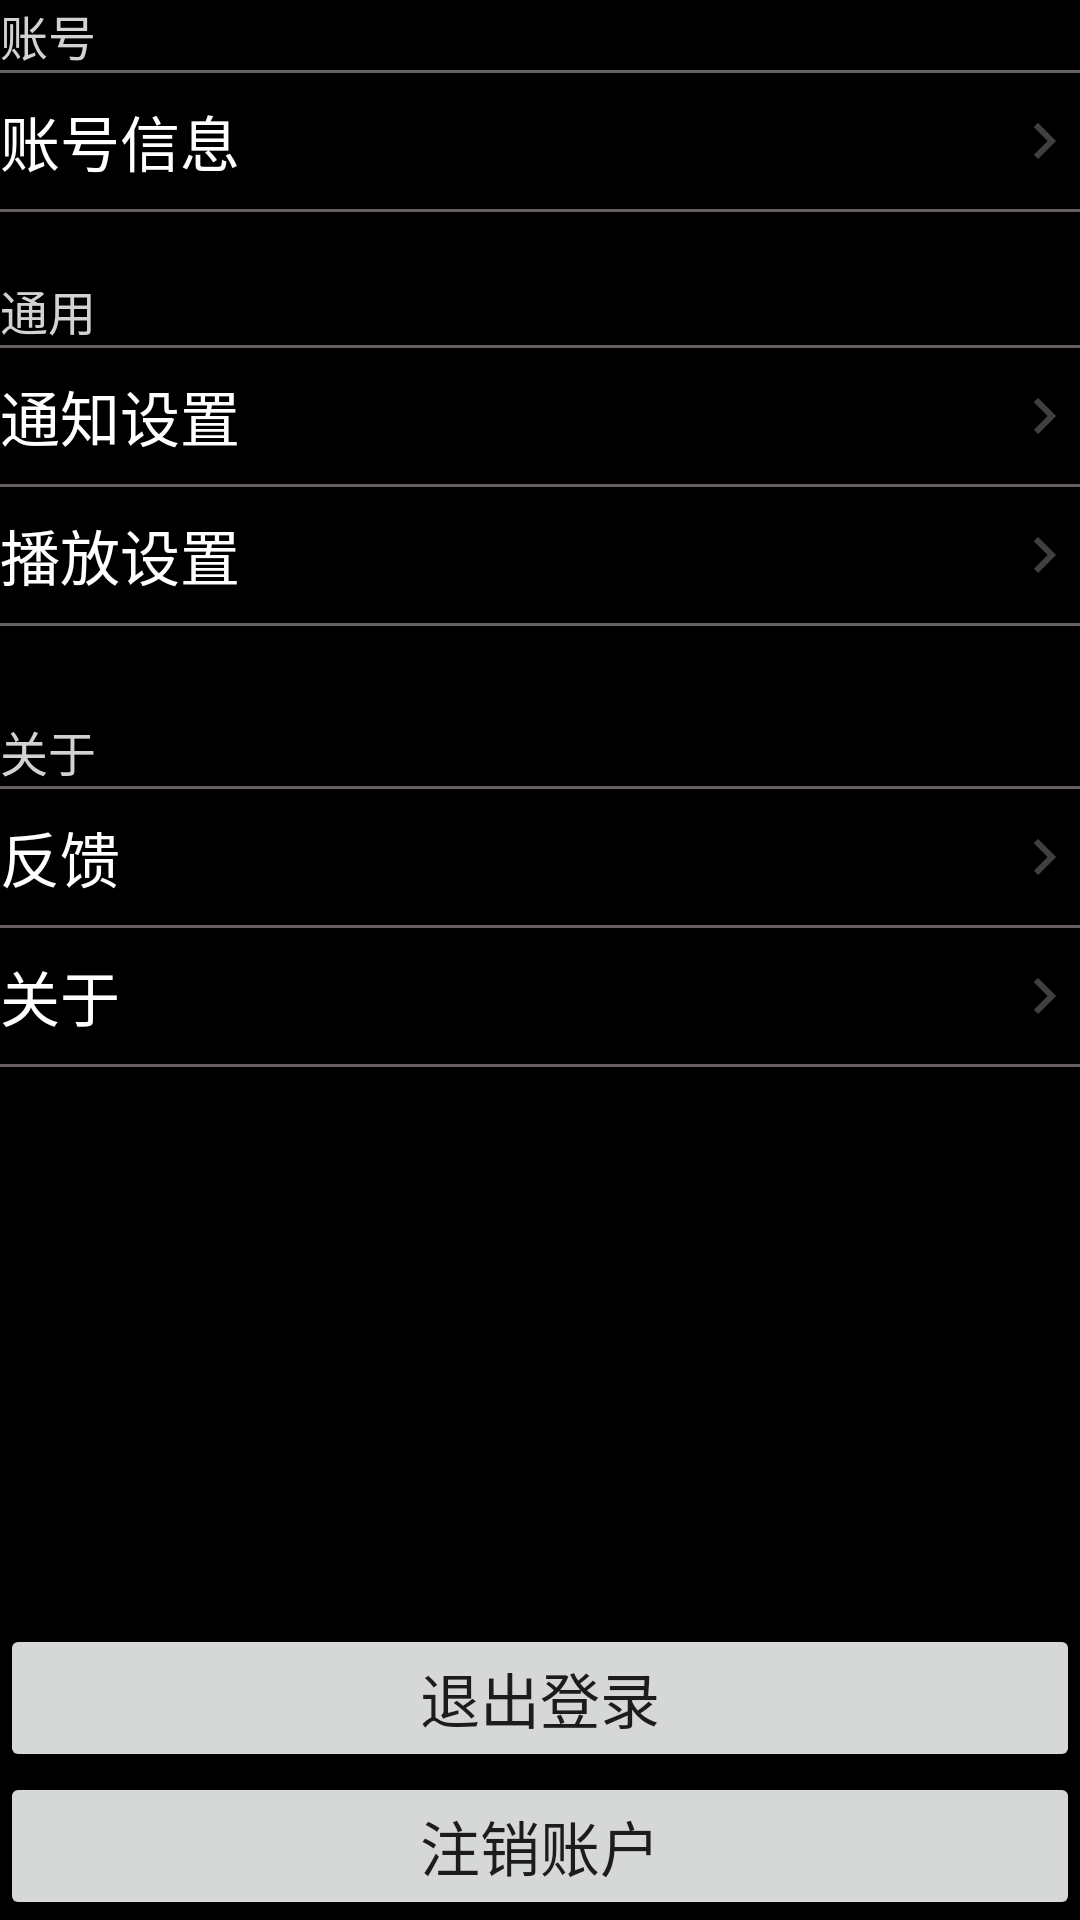

Screen size 1080px×1920px. Icon name, then its box in pixels as detection(x1, y1, x2, y2):
keyboard arrow right: detection(1034, 123, 1056, 159), detection(1034, 398, 1056, 434), detection(1034, 537, 1056, 573), detection(1034, 839, 1056, 875), detection(1034, 978, 1056, 1014)
